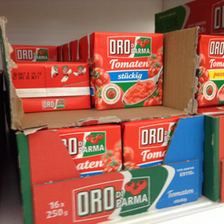tomato_sauce: (78, 32, 164, 109), (11, 61, 91, 113), (122, 115, 183, 167)
